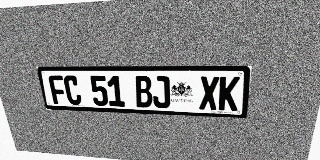1: (106, 76, 125, 107)
5: (90, 75, 109, 106)
B: (134, 76, 153, 108)
C: (63, 75, 82, 105)
F: (48, 75, 68, 105)
J: (152, 76, 170, 108)
K: (218, 76, 240, 111)
X: (199, 76, 219, 110)
